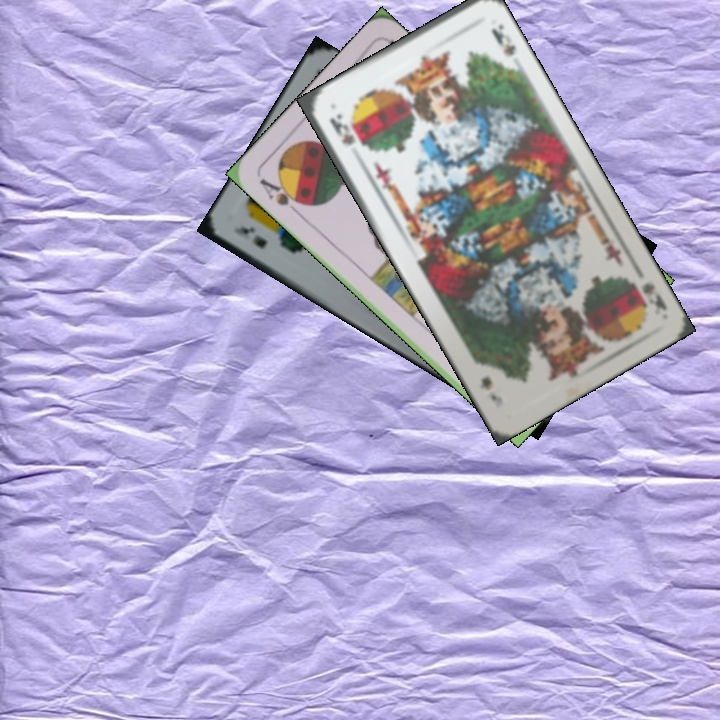EK: (230, 222, 270, 251)
SA: (255, 174, 308, 218)
SK: (325, 109, 358, 148), (637, 278, 670, 314)
